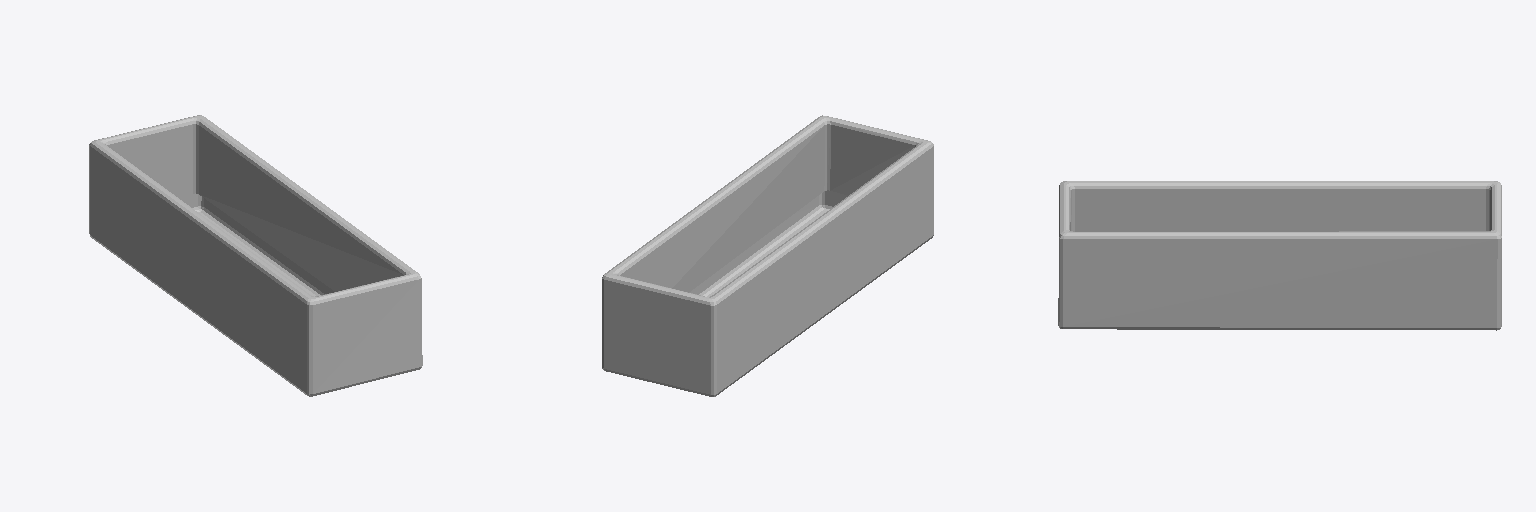
Rendered from BOX POHON FANCY.obj.
The picture shows the model from 3 angles: view 1: azimuth 30°, elevation 25°; view 2: azimuth 150°, elevation 25°; view 3: azimuth 270°, elevation 25°; orthographic projection.
Visible parts, largest first — view 1: pCube30; view 2: pCube30; view 3: pCube30.
Part boxes in pixels (x1,y1,x2,y2): pCube30: (89, 115, 422, 396); pCube30: (602, 115, 933, 396); pCube30: (1058, 181, 1501, 330).
Size of the model in its own units: 1.41 by 1.14 by 4.72.